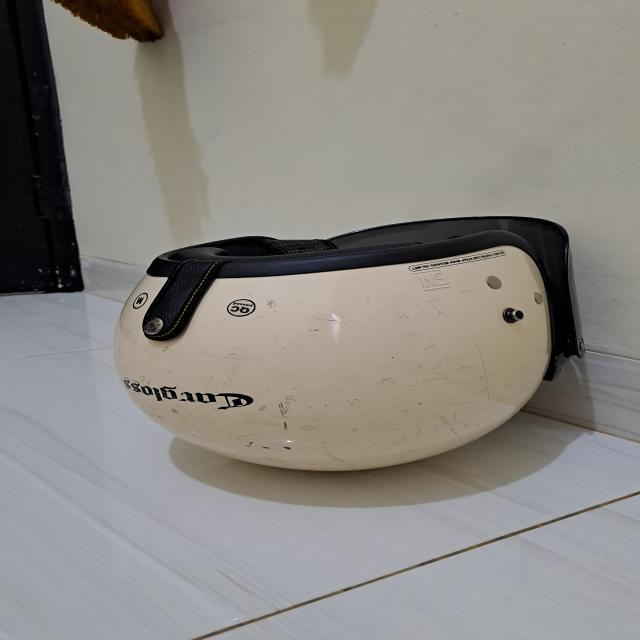Helm: (106, 208, 593, 483)
